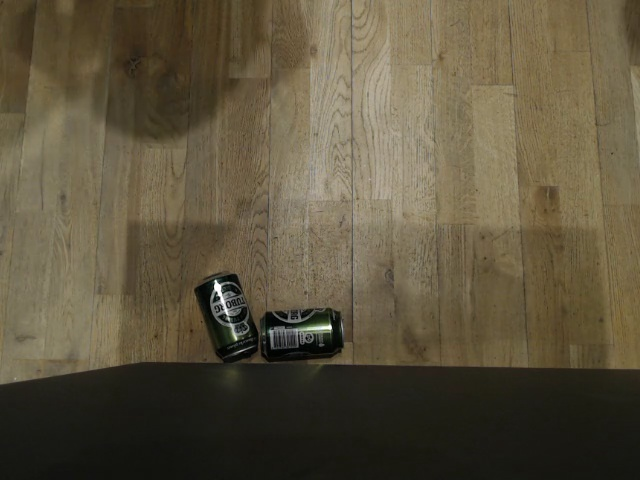beer: (196, 269, 257, 363), (259, 305, 345, 363)
